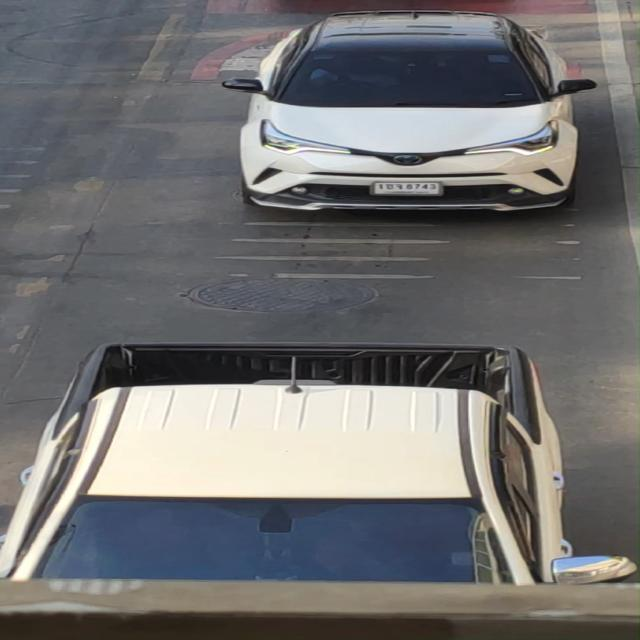car: (211, 11, 610, 220)
